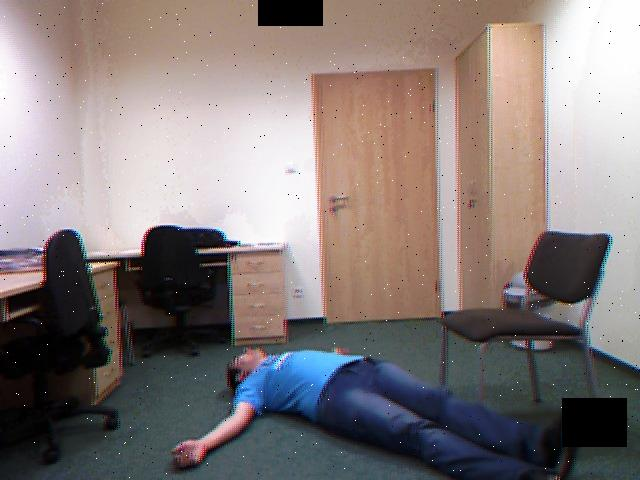fall: (169, 337, 592, 480)
